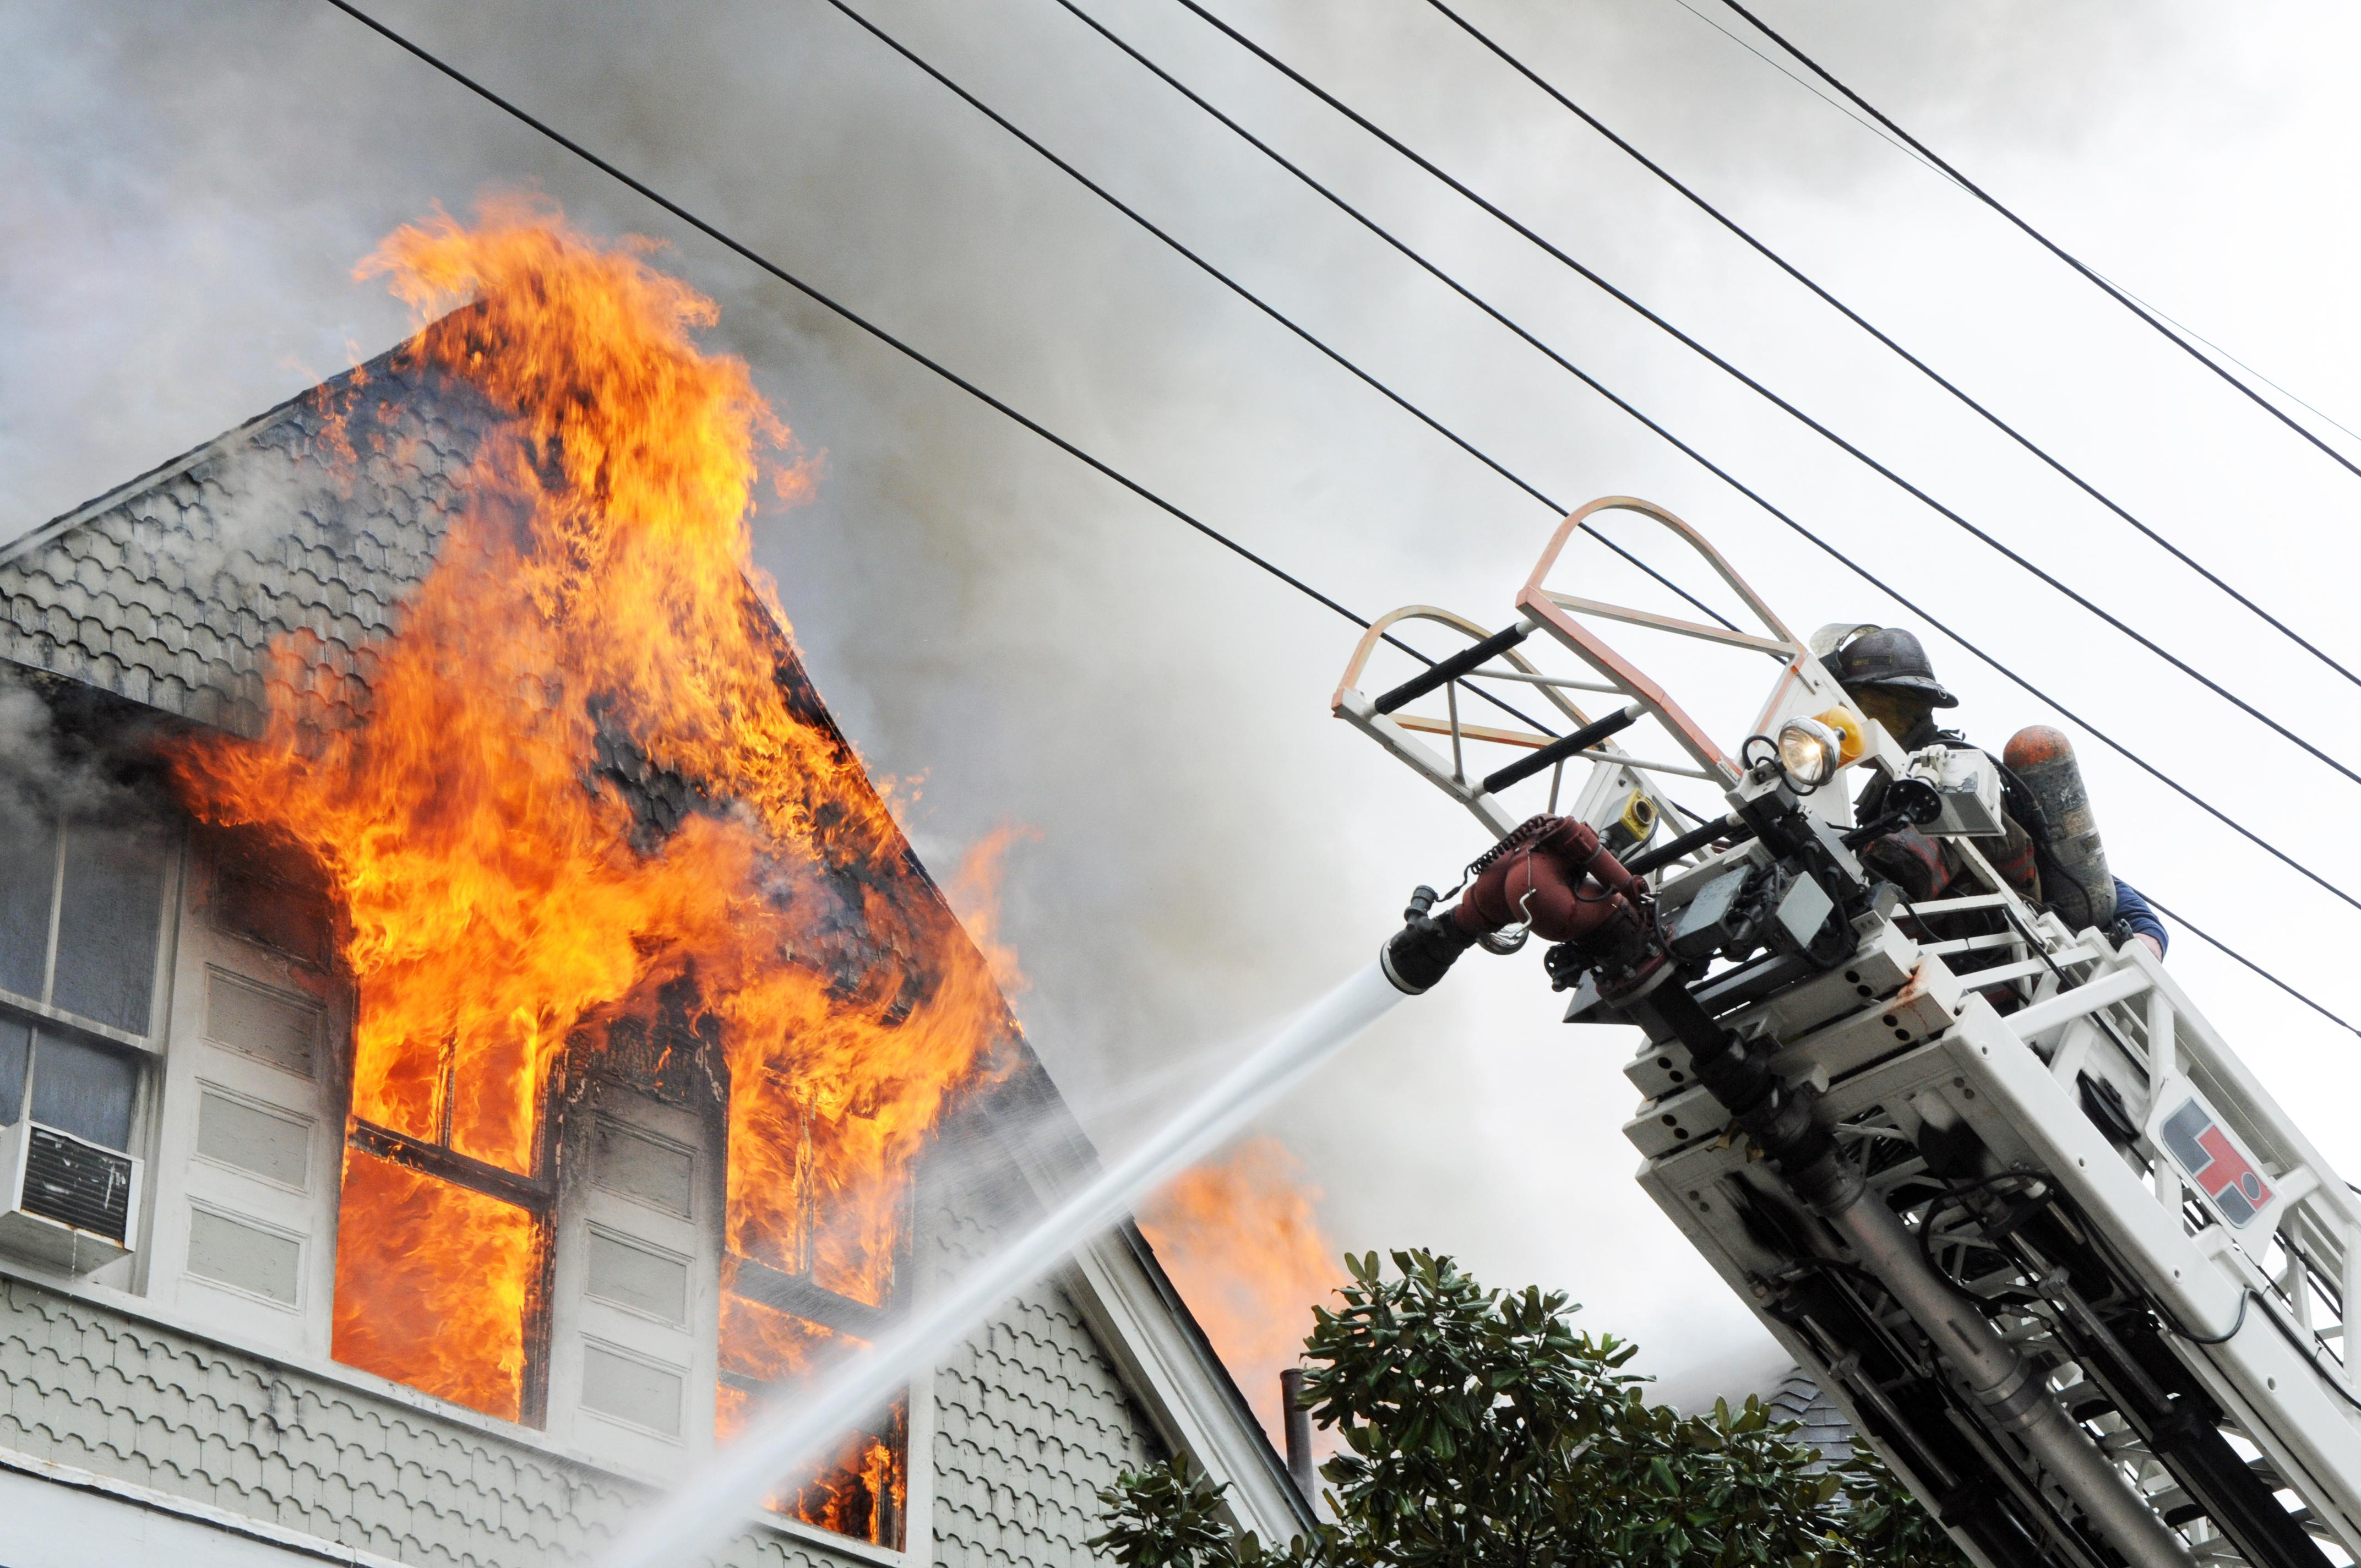Fire: (166, 138, 975, 1507)
